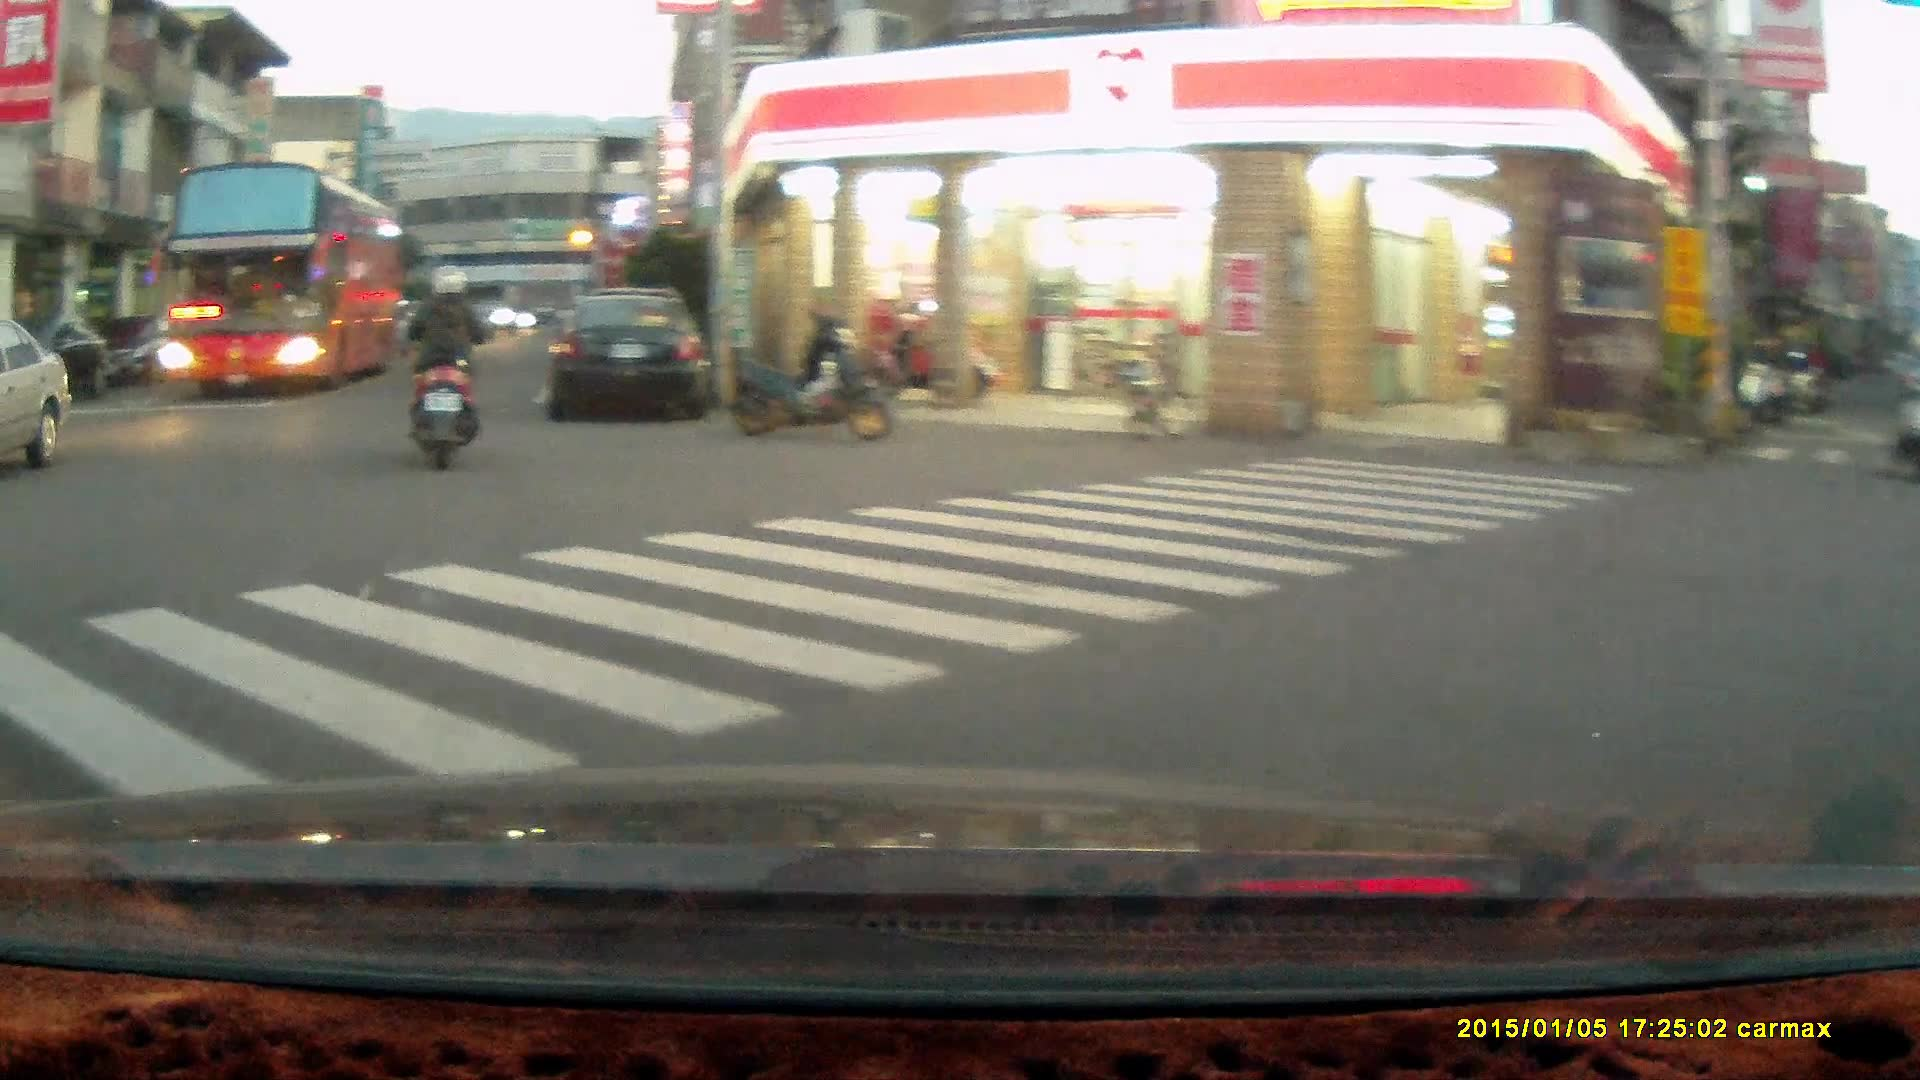rider: (399, 261, 493, 470)
vehicle: (163, 159, 418, 397), (546, 289, 717, 422), (6, 313, 116, 408)
